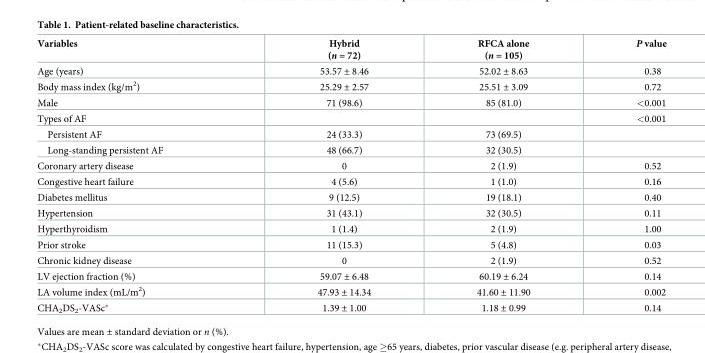table: (36, 36, 665, 313)
table column: (36, 36, 239, 313), (239, 36, 423, 313), (423, 36, 582, 313), (582, 36, 665, 313)
table column header: (36, 36, 665, 62)
table row: (36, 36, 665, 62), (36, 78, 665, 95), (36, 62, 665, 78), (36, 110, 665, 126), (36, 126, 665, 142), (36, 157, 665, 173), (36, 173, 665, 189), (36, 189, 665, 205), (36, 220, 665, 236), (36, 236, 665, 252), (36, 267, 665, 283), (36, 283, 665, 299), (36, 95, 665, 110), (36, 142, 665, 157), (36, 205, 665, 220), (36, 252, 665, 267), (36, 299, 665, 313)
